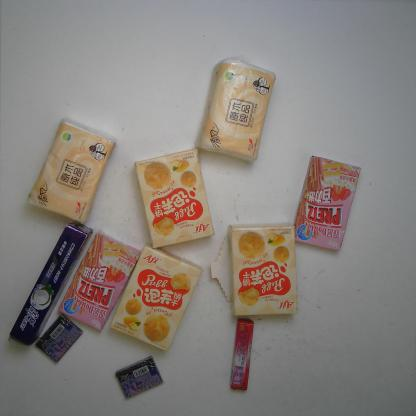Candy: (228, 317, 255, 392)
Dessert: (109, 243, 203, 352), (57, 229, 142, 332), (210, 223, 300, 318), (132, 147, 214, 250), (291, 154, 362, 254)
Gum: (34, 315, 82, 364), (113, 354, 164, 400)
Personal Hygiene: (7, 220, 94, 347)
Tissue: (27, 118, 118, 226), (193, 58, 278, 164)
